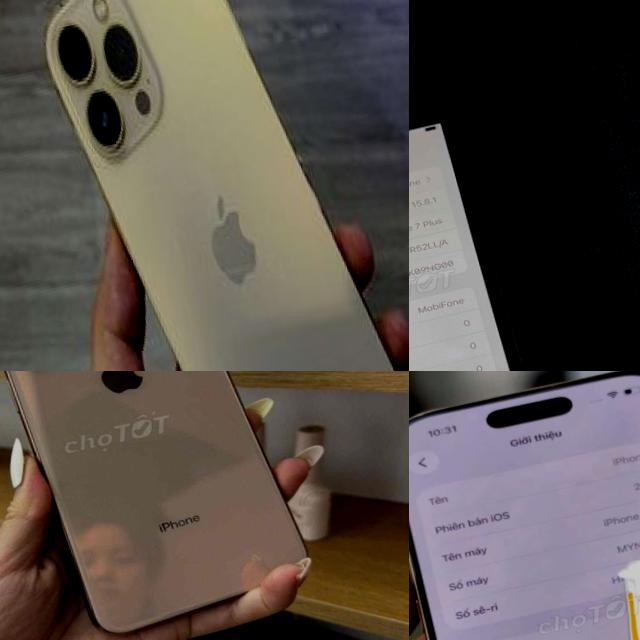gen_12_13: (23, 0, 409, 371)
gen_16: (409, 371, 640, 640)
gen_7_8: (409, 70, 565, 371)
gen_x_xs: (0, 371, 321, 640)
